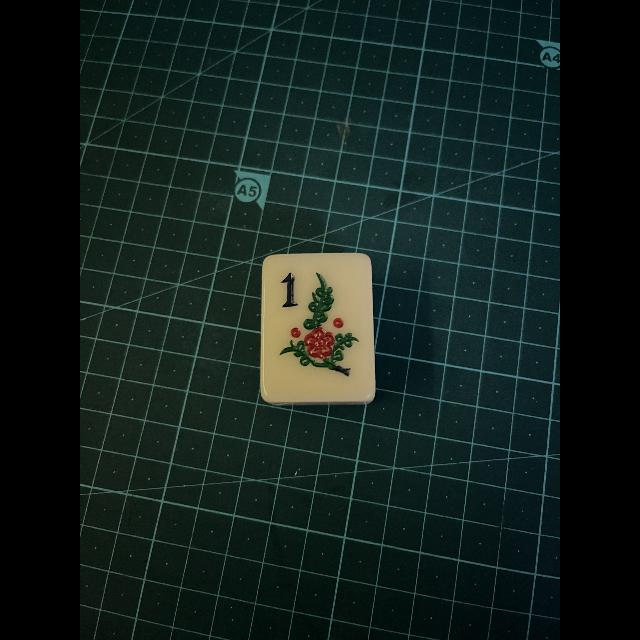f1-s: (264, 255, 374, 400)
